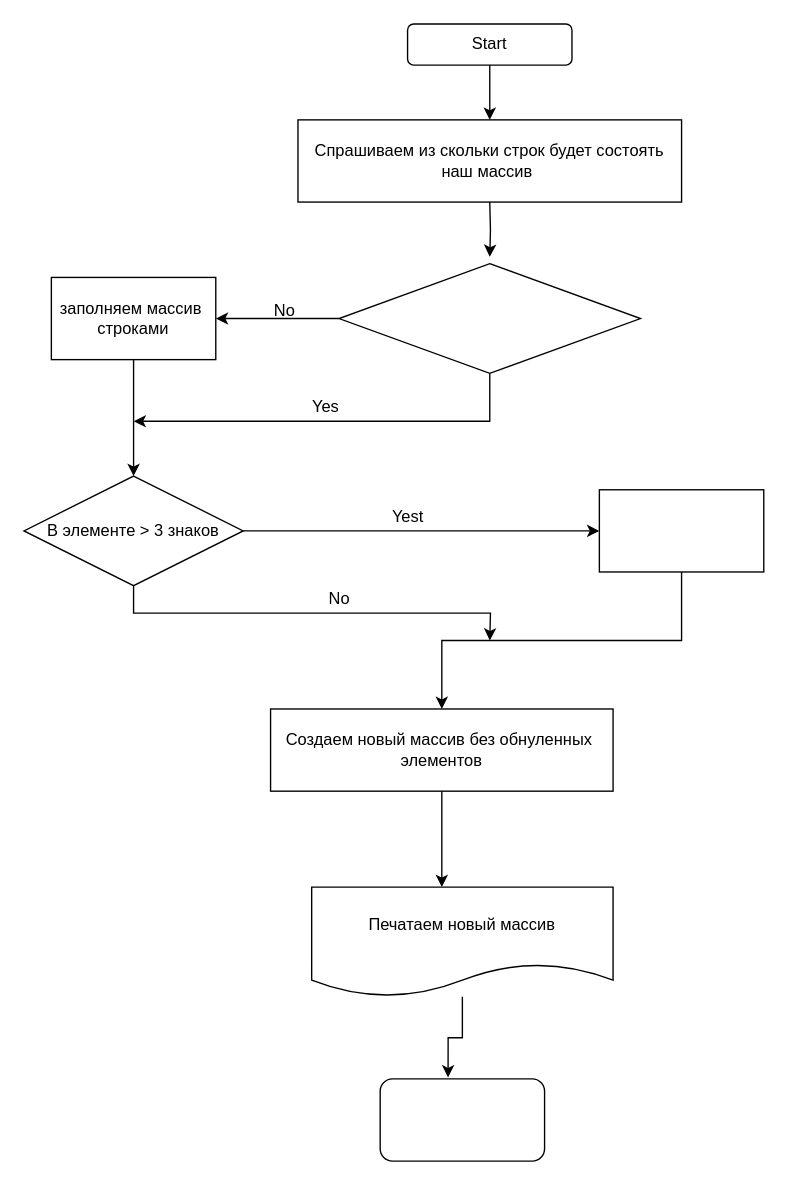
Image size: 788x1185. Some labels were removed from this diagram. The shapes that lost their labels are listed below. From the top down, each one's box as (x1, y1, x2, y2) in pixels, then its label:
(338, 262, 640, 373): строк < чем запросил пользователь (n)
(598, 488, 764, 572): Обнуляем элемент
(379, 1078, 545, 1161): End
